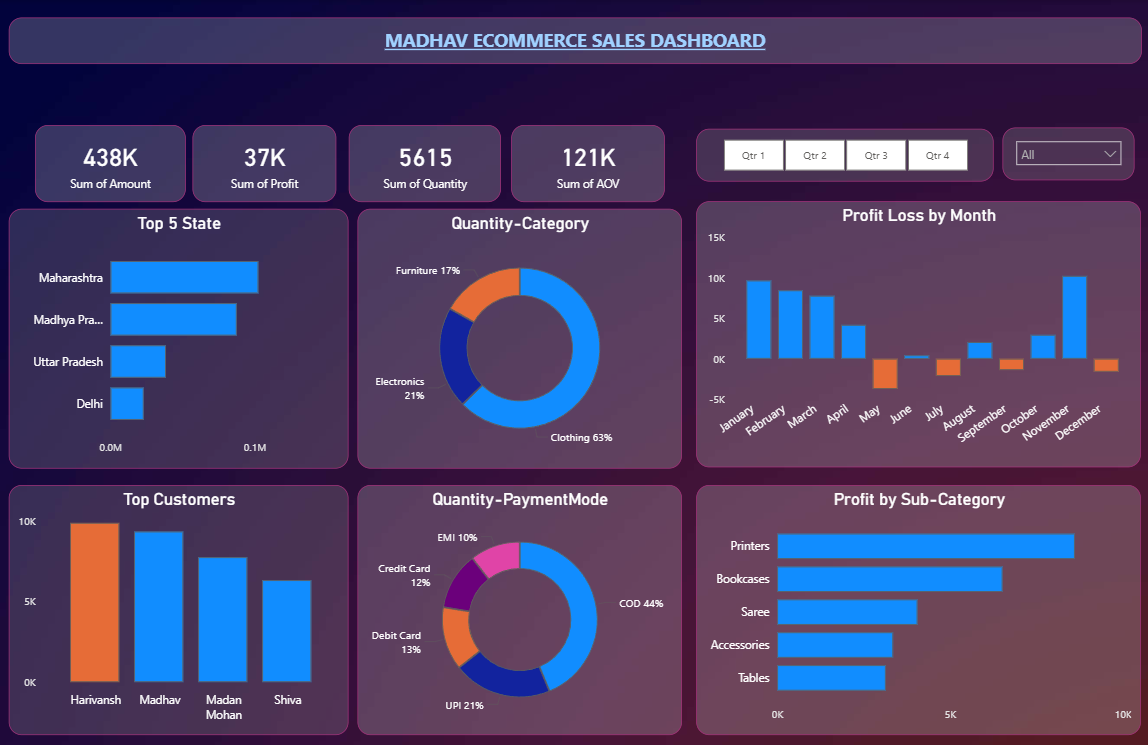

The dashboard page shown, as its layout file describes it:
{"tool":"powerbi","page":{"name":"Page 1","canvas":[1327,859],"ordinal":0},"visuals":[{"type":"textbox","box":[10,20,1304.4,53.3],"z":0},{"type":"columnChart","title":"Profit Loss by Month","fields":{"Category":["Orders.Order Date.Variation.Date Hierarchy.Month"],"Y":["Sum(Details.Profit)"]},"box":[802.2,232.2,512.2,306.7],"z":1000},{"type":"barChart","title":" Profit by Sub-Category","fields":{"Category":["Details.Sub-Category"],"Y":["Sum(Details.Profit)"]},"box":[802.2,558.9,512.2,287.8],"z":2000},{"type":"donutChart","title":"Quantity-Category","fields":{"Category":["Details.Category"],"Y":["Sum(Details.Quantity)"]},"box":[412.2,240,373.3,298.9],"z":3000},{"type":"donutChart","title":"Quantity-PaymentMode","fields":{"Y":["Sum(Details.Quantity)"],"Category":["Details.PaymentMode"]},"box":[412.2,558.9,373.3,287.8],"z":4000},{"type":"card","fields":{"Values":["Sum(Details.Amount)"]},"box":[40,143.3,173.3,88.9],"z":4001},{"type":"card","fields":{"Values":["Sum(Details.Profit)"]},"box":[222.2,143.3,165.6,88.9],"z":4002},{"type":"card","fields":{"Values":["Sum(Details.AOV)"]},"box":[588.9,143.3,176.7,88.9],"z":4003},{"type":"card","fields":{"Values":["Sum(Details.Quantity)"]},"box":[401.1,143.3,175.6,88.9],"z":4004},{"type":"barChart","title":"Top 5 State","fields":{"Category":["Orders.State"],"Y":["Sum(Details.Amount)"]},"box":[10,240,391.1,298.9],"z":4005},{"type":"columnChart","title":"Top Customers","fields":{"Category":["Orders.CustomerName"],"Y":["Sum(Details.Amount)"]},"box":[10,558.9,391.1,287.8],"z":4006},{"type":"slicer","fields":{"Values":["Orders.Order Date.Variation.Date Hierarchy.Quarter"]},"box":[802.2,147.8,342.2,61.1],"z":4007},{"type":"slicer","fields":{"Values":["Orders.State"]},"box":[1154.4,146.7,152.2,61.1],"z":4008}]}

Visuals, with their boxes in screenshot pixels (x1, y1, x2, y2), scaled from the page's 1327x859 canvas onto the 1148x745 screenshot:
textbox: bbox=[9, 17, 1137, 64]
"Profit Loss by Month" columnChart: bbox=[694, 201, 1137, 467]
" Profit by Sub-Category" barChart: bbox=[694, 485, 1137, 734]
"Quantity-Category" donutChart: bbox=[357, 208, 680, 467]
"Quantity-PaymentMode" donutChart: bbox=[357, 485, 680, 734]
card - Sum(Details.Amount): bbox=[35, 124, 185, 201]
card - Sum(Details.Profit): bbox=[192, 124, 335, 201]
card - Sum(Details.AOV): bbox=[509, 124, 662, 201]
card - Sum(Details.Quantity): bbox=[347, 124, 499, 201]
"Top 5 State" barChart: bbox=[9, 208, 347, 467]
"Top Customers" columnChart: bbox=[9, 485, 347, 734]
slicer - Orders.Order Date.Variation.Date Hierarchy.Quarter: bbox=[694, 128, 990, 181]
slicer - Orders.State: bbox=[999, 127, 1130, 180]
